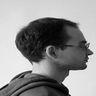ear: (42, 42, 64, 65)
